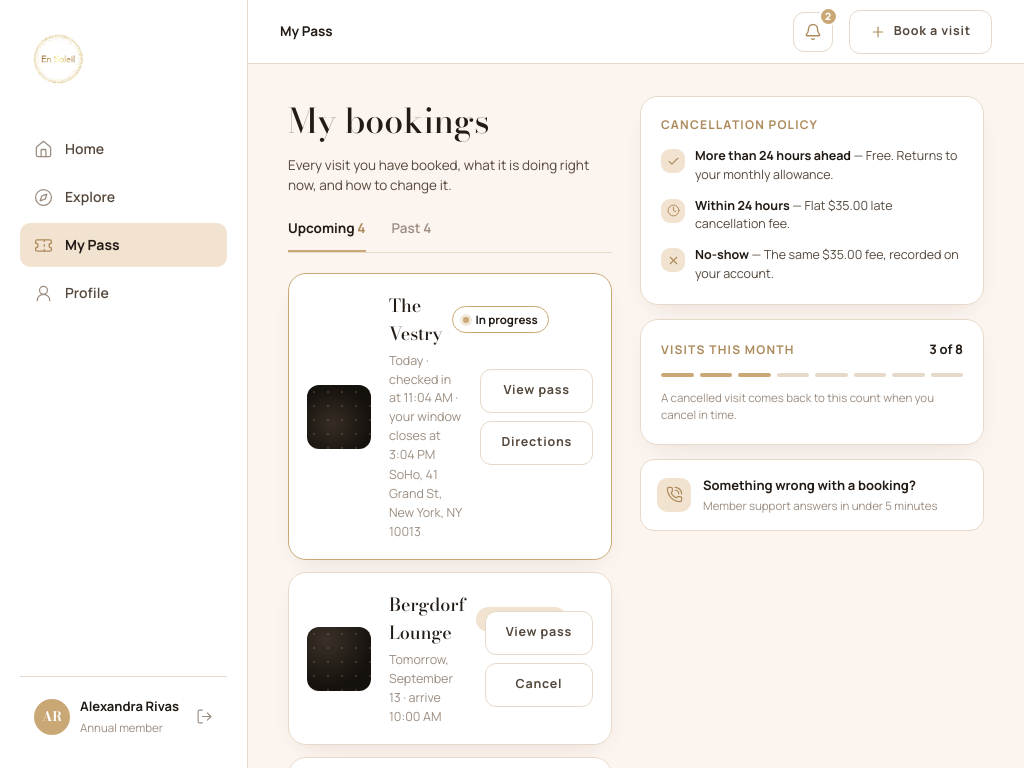
Test case: pestaña Past › al activarla, muestra el historial con sus estados y explica el no-show
Click the tab "Past 4" at {"x": 411, "y": 235}, box [392, 218, 431, 252]
(page scrolled)
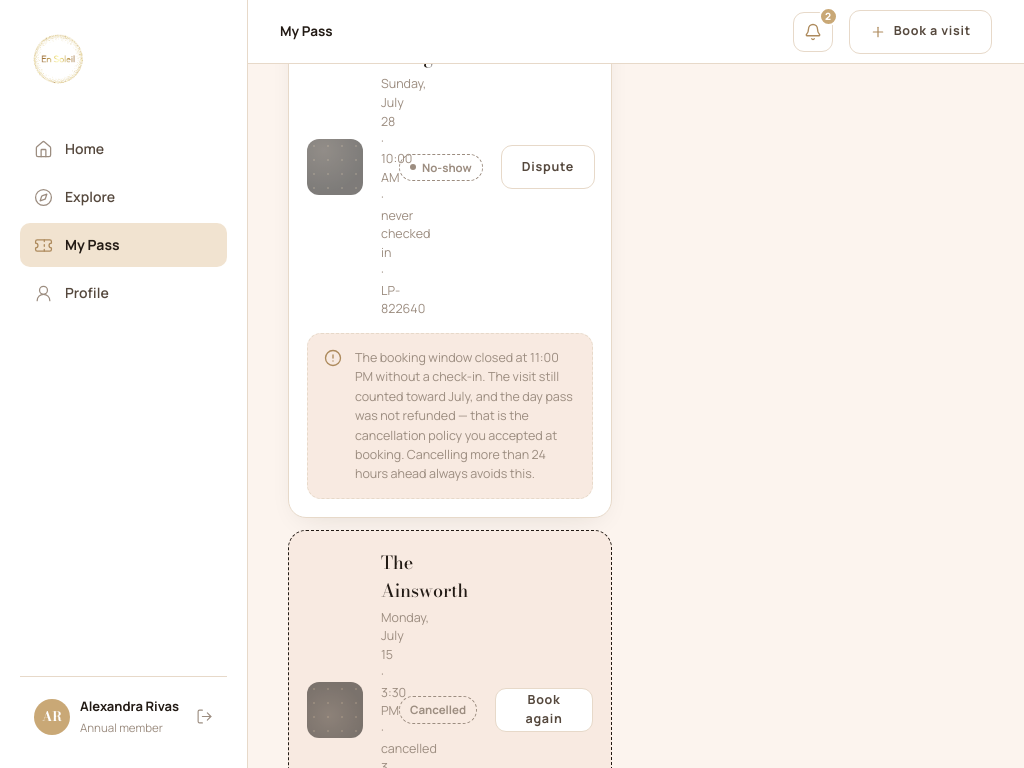
Now the text "booking window closed at 11:00 PM without a check-in" is shown, box [355, 349, 573, 482]
